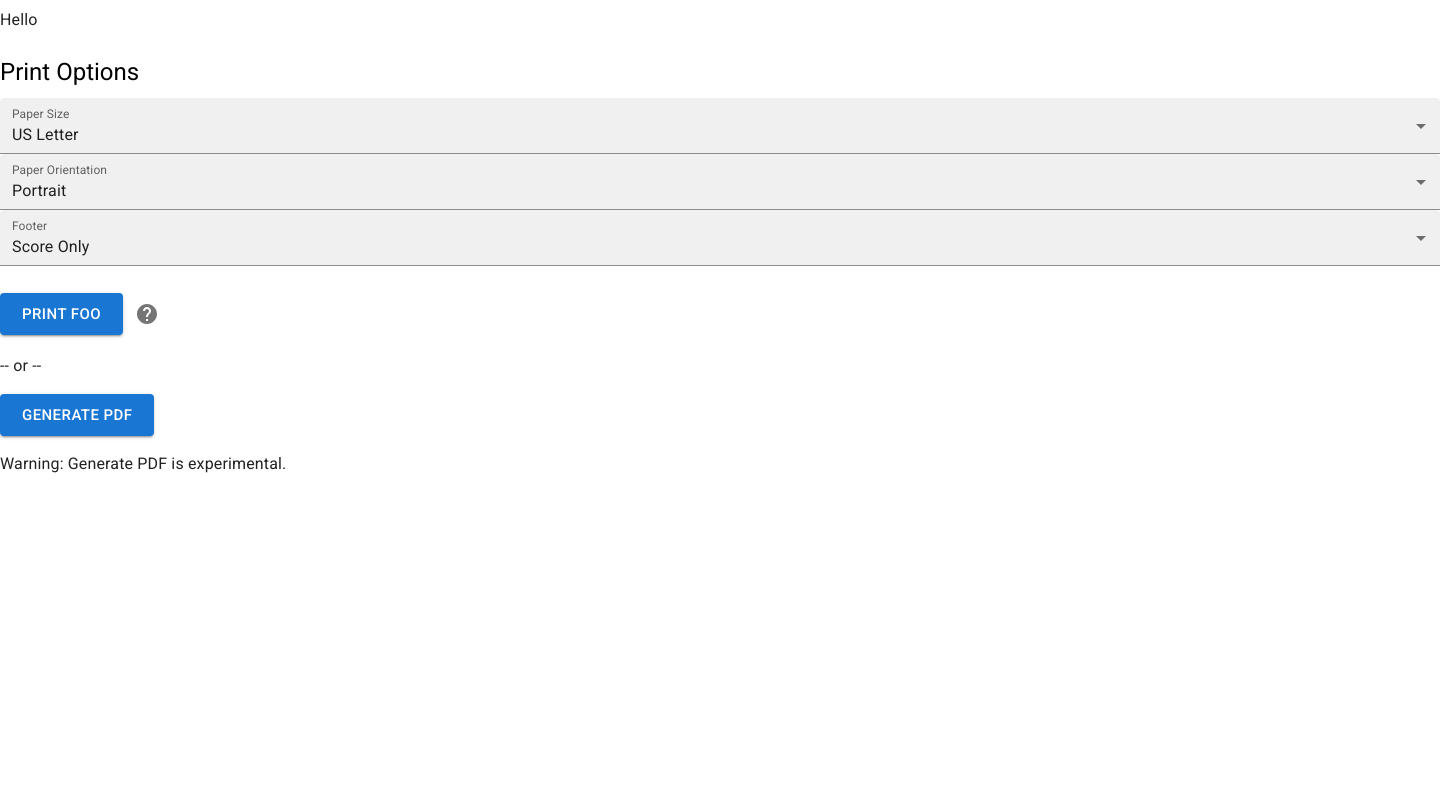
Test case: CustomizeForm › Printing Tips › when print help button is clicked › shows printing help text dialog
The image size is (1440, 810).
Click the button named "Printing Tips" at [147, 314], box [123,290,171,338]
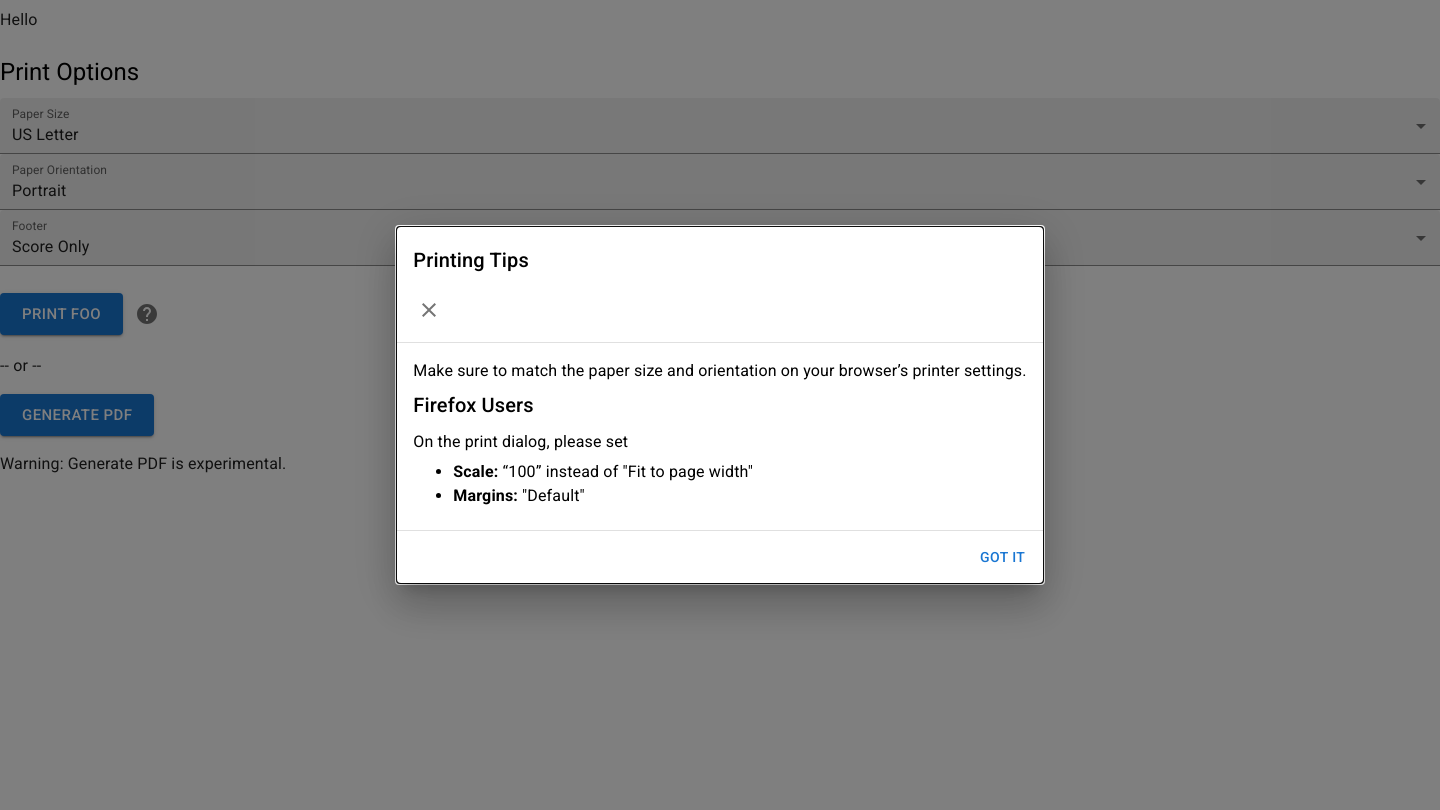
Expected: the text "Make sure to match" is shown, [413,361,1027,380]
